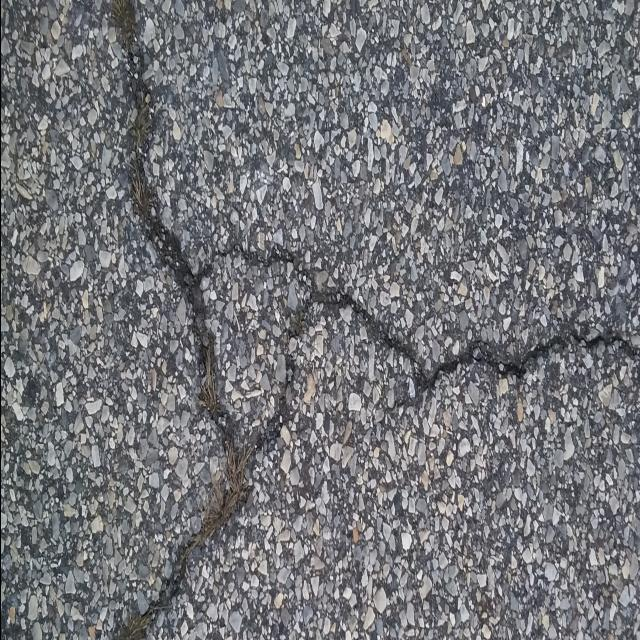Crack: (109, 2, 640, 640)
